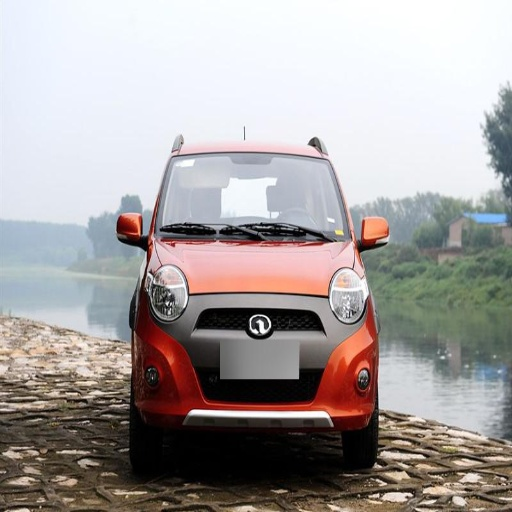front_bumper: (140, 294, 374, 429)
front_right_light: (148, 274, 186, 322)
hood: (157, 239, 351, 295)
